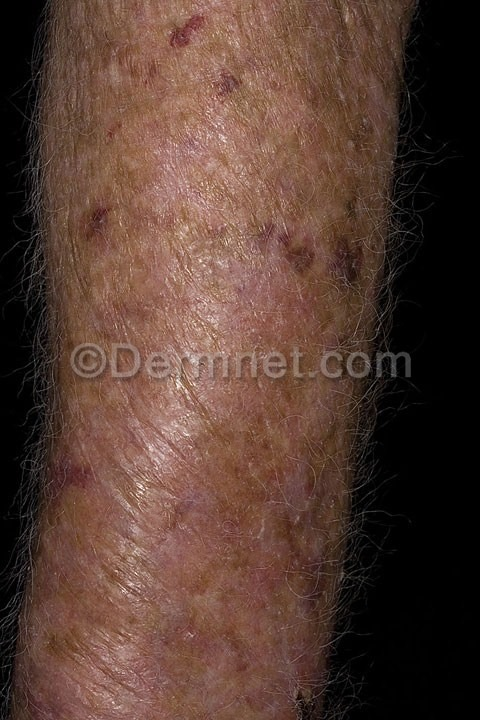Melasma: (21, 393, 449, 720), (31, 3, 410, 337)
